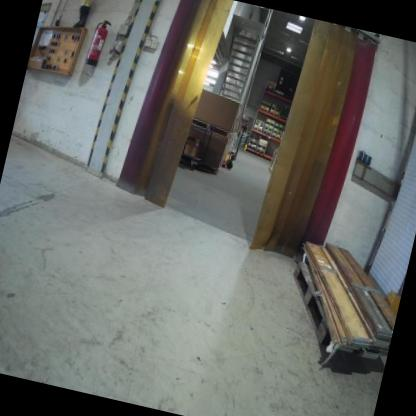pallet: (276, 255, 361, 351), (190, 115, 233, 140), (270, 105, 280, 114), (265, 119, 275, 128), (258, 106, 269, 114), (254, 121, 265, 129), (246, 143, 257, 151), (271, 133, 281, 141), (260, 101, 271, 108), (252, 126, 263, 133), (263, 129, 272, 137), (265, 87, 275, 94), (269, 110, 279, 117), (274, 124, 284, 131), (248, 139, 258, 146), (257, 143, 267, 150), (273, 129, 282, 136), (256, 148, 265, 155), (274, 91, 283, 97), (264, 126, 273, 132)
pallet_truck: (216, 116, 251, 175)
